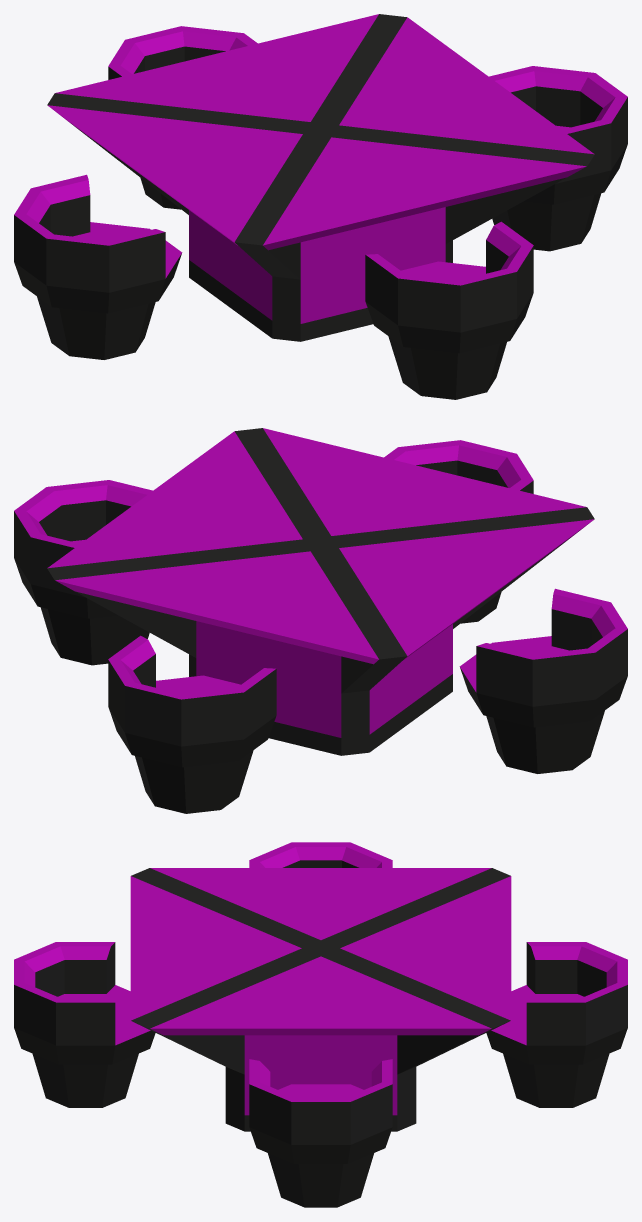
Rendered from Diner_Table_Small.fbx.
The picture shows the model from 3 angles, top to bottom: view 1: azimuth 30°, elevation 25°; view 2: azimuth 150°, elevation 25°; view 3: azimuth 270°, elevation 25°; orthographic projection. The views are drawn at different scales.
Visible parts, largest first — view 1: Diner_Table_Small; view 2: Diner_Table_Small; view 3: Diner_Table_Small.
Part boxes in pixels (x1=…): Diner_Table_Small: x1=14, y1=14, x2=627, y2=399; Diner_Table_Small: x1=14, y1=428, x2=627, y2=813; Diner_Table_Small: x1=14, y1=842, x2=627, y2=1207.
Size of the model in its own units: 5.41 by 5.41 by 1.39.
